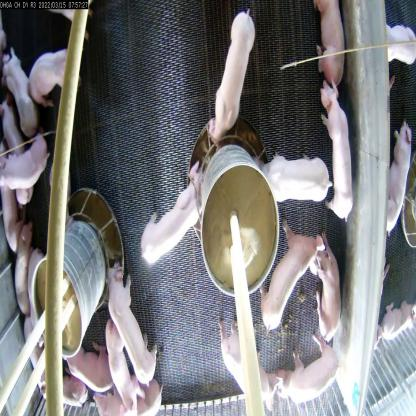Pig: (250, 220, 320, 338), (104, 255, 163, 390), (128, 170, 204, 272), (210, 4, 258, 155), (216, 311, 282, 411), (315, 79, 358, 229), (257, 134, 337, 212), (373, 107, 416, 242), (306, 238, 347, 351), (303, 0, 355, 83), (101, 316, 145, 413), (2, 53, 42, 146), (0, 134, 55, 198), (285, 336, 339, 400), (97, 375, 166, 415), (29, 47, 70, 111), (9, 220, 35, 310), (67, 342, 115, 387)
